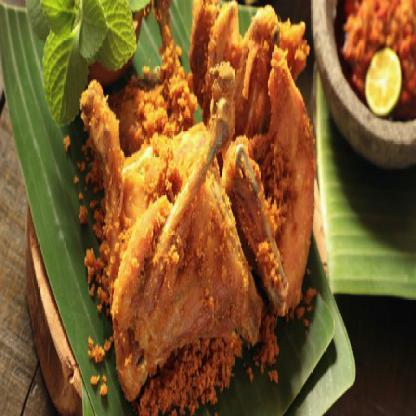ayam_goreng: (82, 86, 261, 394), (221, 48, 319, 324), (192, 0, 310, 143)
